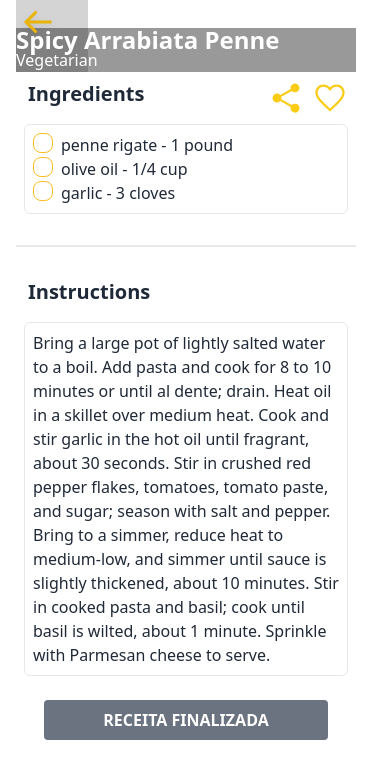
Test case: RecipeInProgress mealPath › Se o botão de finalizar a receita está habilitado apos marcar todos os checkboxes
This screenshot has width=373, height=757.
Expected: the button with test id "finish-recipe-btn" is disabled, [44,700,328,740]
Click the label with test id "ingredient-step".
click(133, 144)  # box [33,133,233,156]
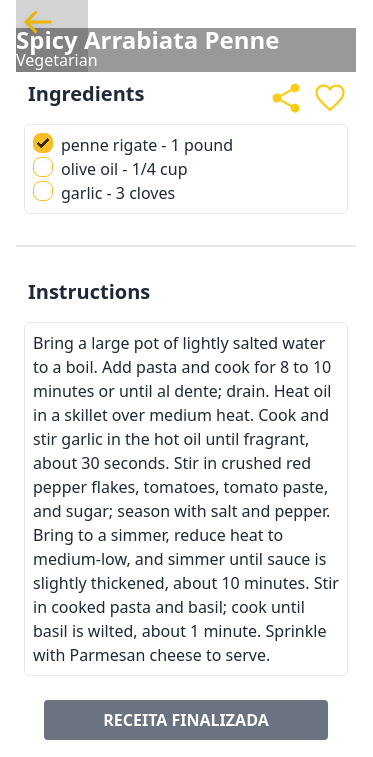
Click the label with test id "ingredient-step".
click(110, 168)  # box [33,157,188,180]
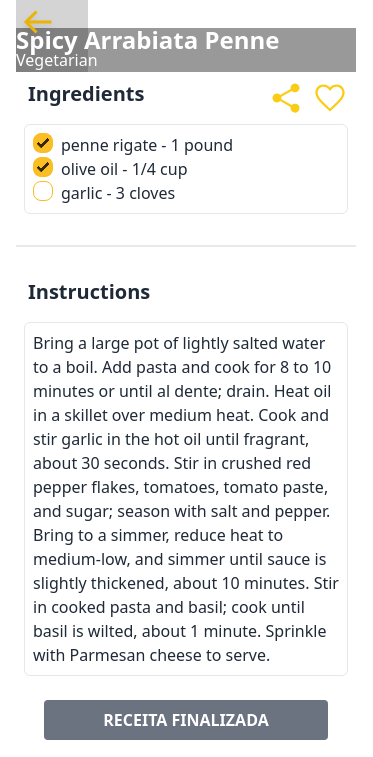
Click the label with test id "ingredient-step".
click(104, 192)  # box [33,181,175,204]
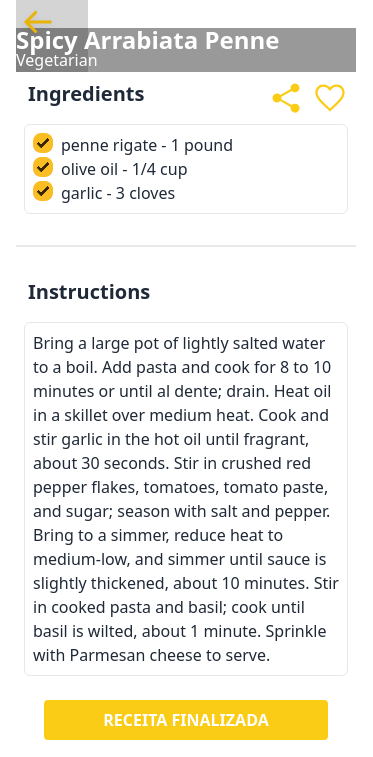
Result: the button with test id "finish-recipe-btn" is enabled at [44,700,328,740]
Click the label with test id "ingredient-step".
click(133, 144)  # box [33,133,233,156]
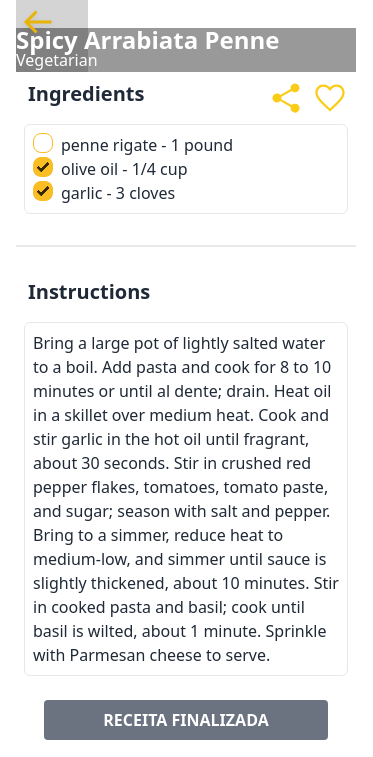
Result: the button with test id "finish-recipe-btn" is disabled at [44,700,328,740]
Click the label with test id "ingredient-step".
click(133, 144)  # box [33,133,233,156]
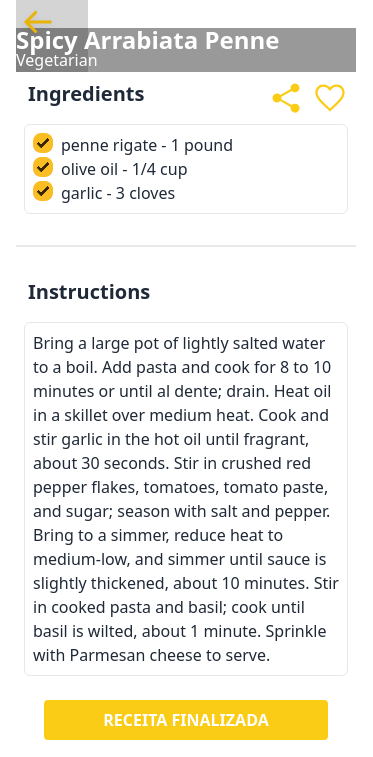
Result: the button with test id "finish-recipe-btn" is enabled at [44,700,328,740]
